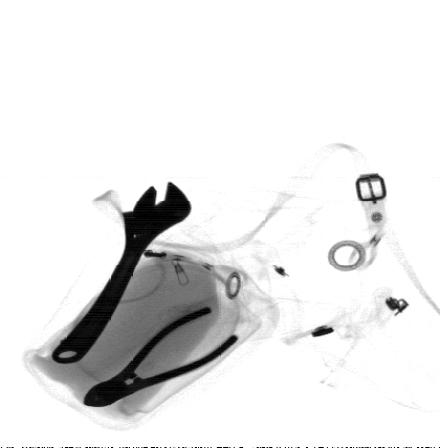Pliers: (81, 306, 239, 407)
Wrench: (50, 179, 193, 363)
